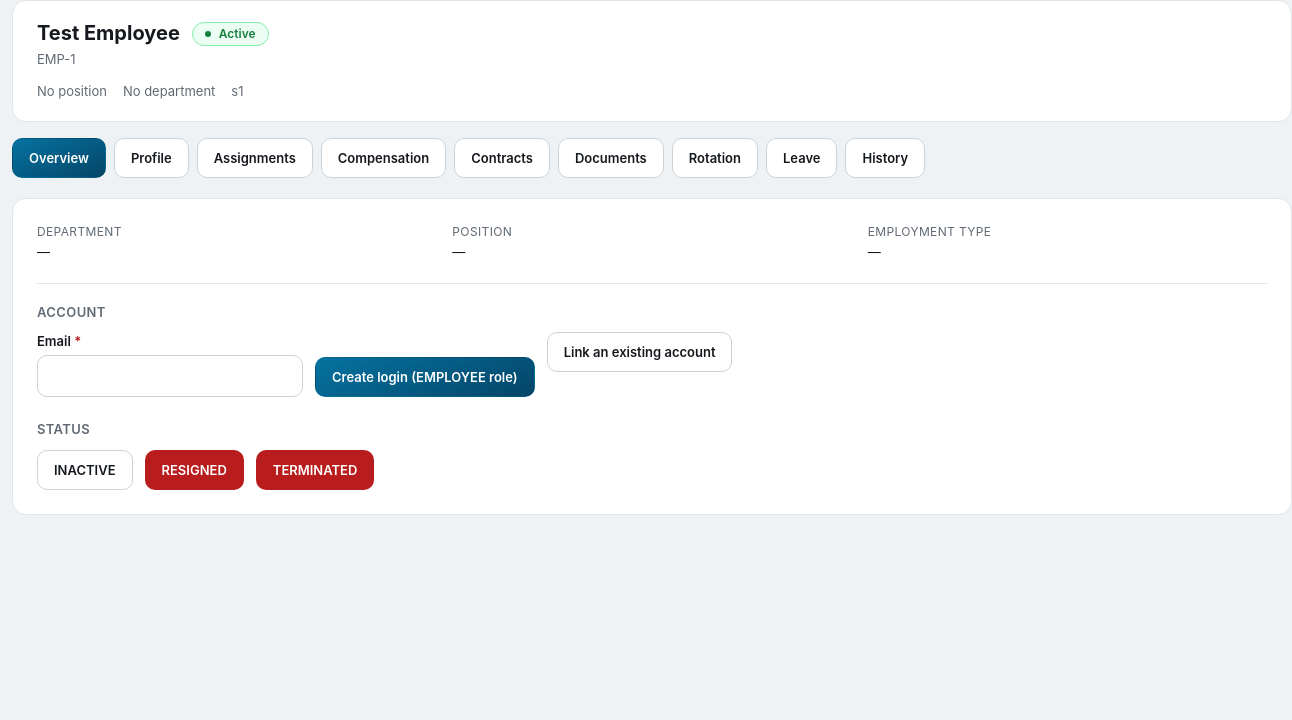
Test: Contracts tab — required draft metadata › existing draft values are pre-filled rather than silently dropped
The width and height of the screenshot is (1292, 720).
Expected: the heading "Test Employee" is shown, [37,21,180,46]
Click the button "Contracts": click(502, 158) [454,138,550,178]
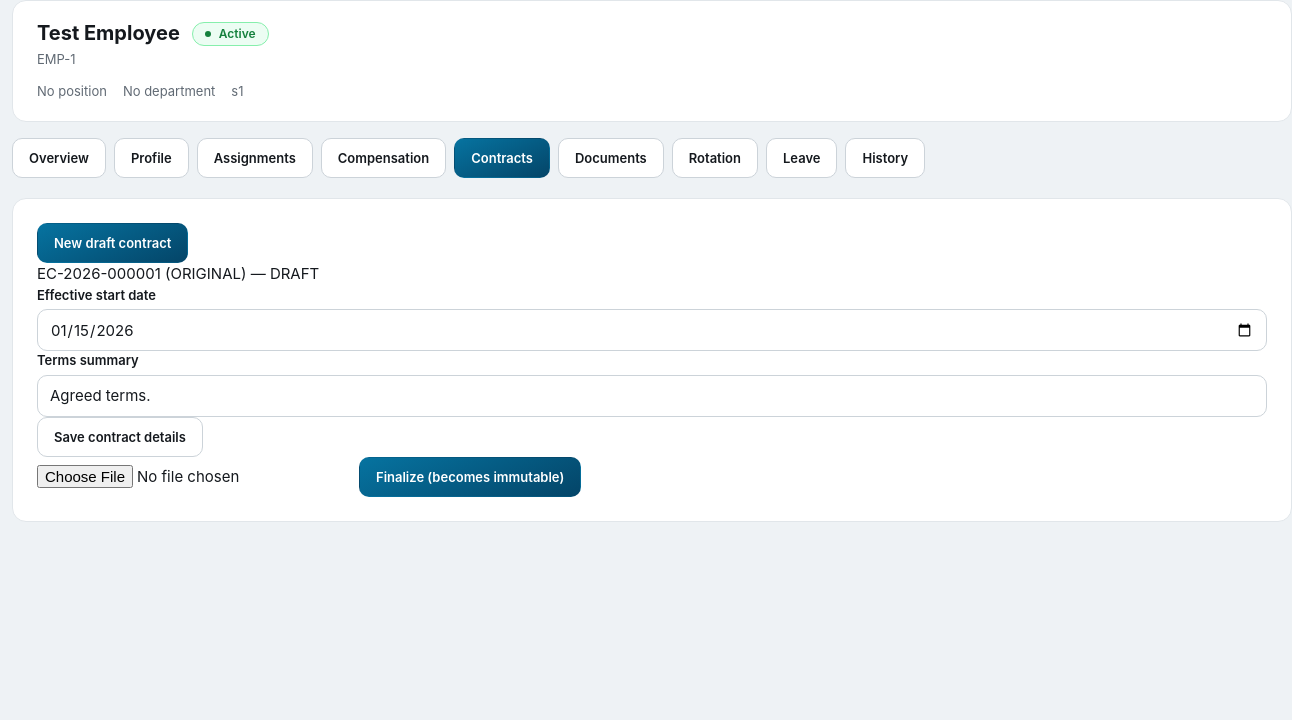
Expected: the text "EC-2026-000001 (ORIGINAL) — DRAFT" is shown, [37,264,319,283]
Expected: the date field labelled "Effective start date" holds "2026-01-15", [37,309,1267,351]
Expected: the field labelled "Terms summary" holds "Agreed terms.", [37,374,1267,416]
